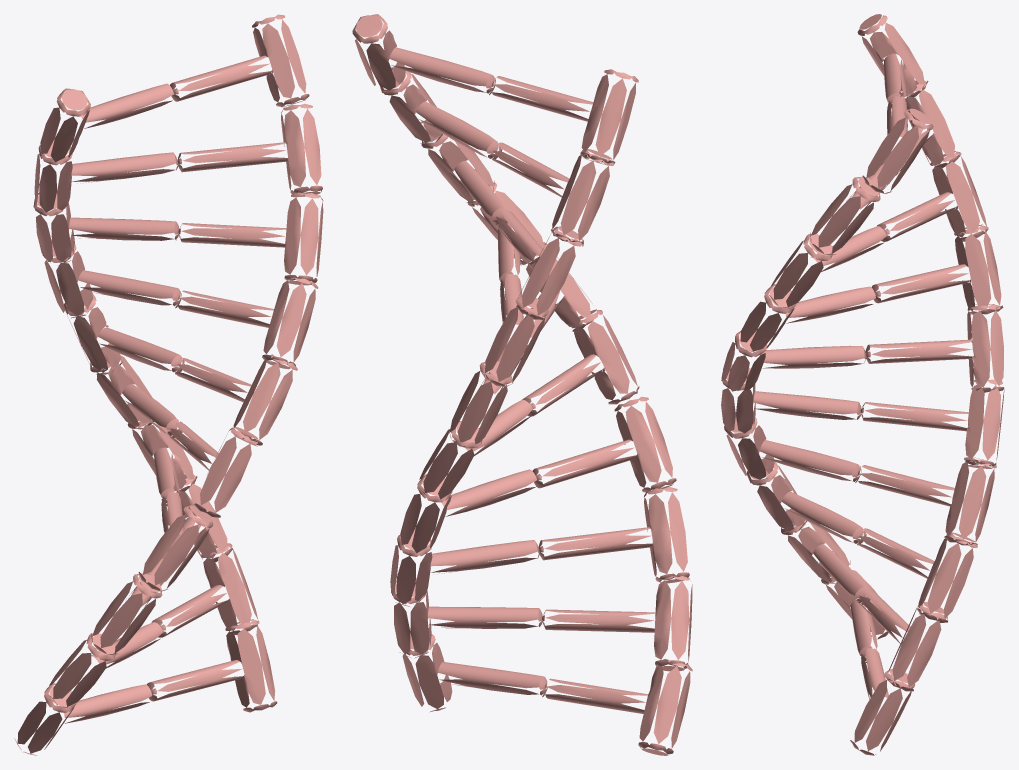
The model's file is medicine.glb.
The picture shows the model from 3 angles, left to right: view 1: azimuth 30°, elevation 25°; view 2: azimuth 150°, elevation 25°; view 3: azimuth 270°, elevation 25°; orthographic projection. The views are drawn at different scales.
Parts seen in each view (by area): view 1: group1890997749, group1918272623, group98267956, group816999805, group1941224218, group1692922274, group1916454902, group905627815, group64402491, group80703863, group543773821, group583171219 (+8 smaller); view 2: group1184130097, group500574630, group583171219, group1692922274, group1100175594, group1890997749, group1355464784, group64402491, group1941224218, group679215435, group543773821, group1347056512 (+8 smaller); view 3: group98256001, group1347056512, group80703863, group1440525040, group679215435, group905627815, group500574630, group1916454902, group1355464784, group816999805, group543773821, group1918272623 (+8 smaller).
Boxes of the visible parts, box(x1,y1,x2,y2) form: group1890997749: box(170, 14, 309, 107); group1918272623: box(178, 192, 323, 285); group98267956: box(177, 103, 322, 196); group816999805: box(177, 277, 318, 369); group1941224218: box(147, 619, 277, 712); group1692922274: box(40, 83, 173, 162); group1916454902: box(175, 354, 297, 446); group905627815: box(33, 190, 179, 265); group64402491: box(34, 139, 178, 215); group80703863: box(42, 239, 181, 318); group543773821: box(151, 543, 258, 637); group583171219: box(14, 683, 152, 755); group1184130097: box(538, 487, 689, 583); group500574630: box(532, 396, 676, 492); group583171219: box(544, 658, 692, 755); group1692922274: box(492, 69, 638, 165); group1100175594: box(542, 576, 692, 671); group1890997749: box(352, 14, 495, 94); group1355464784: box(522, 309, 639, 416); group64402491: box(491, 142, 614, 243); group1941224218: box(402, 633, 547, 712); group679215435: box(390, 528, 539, 606); group543773821: box(392, 578, 542, 658); group1347056512: box(398, 469, 536, 554); group98256001: box(865, 304, 1004, 392); group1347056512: box(857, 457, 996, 547); group80703863: box(871, 224, 1003, 314); group1440525040: box(860, 379, 1004, 468); group679215435: box(857, 528, 977, 622); group905627815: box(877, 151, 988, 241); group500574630: box(724, 412, 861, 482); group1916454902: box(722, 330, 866, 391); group1355464784: box(721, 364, 861, 435); group816999805: box(738, 284, 875, 353); group543773821: box(859, 588, 947, 691); group1918272623: box(769, 226, 886, 308).
Size of the model in its own units: 0.4474 by 1 by 0.3897.
